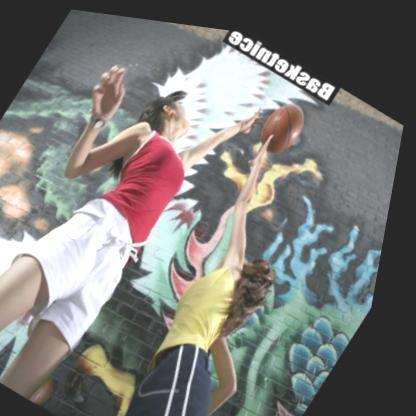basketball: (253, 85, 316, 155)
